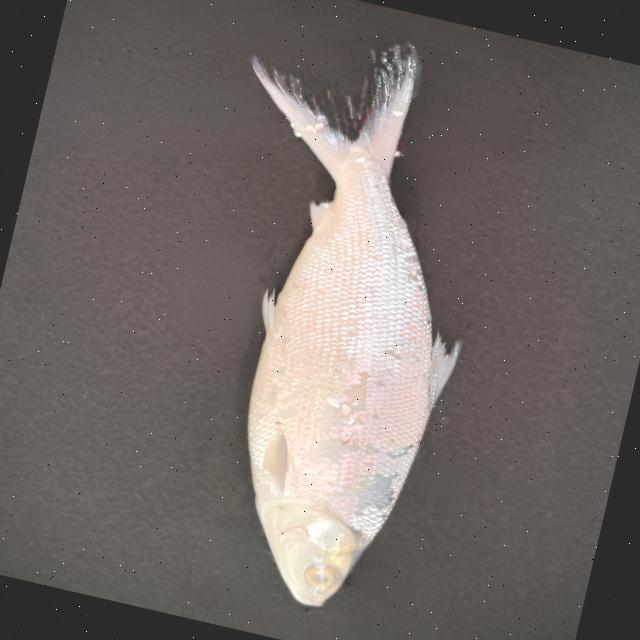1000 g: (131, 20, 521, 626)
